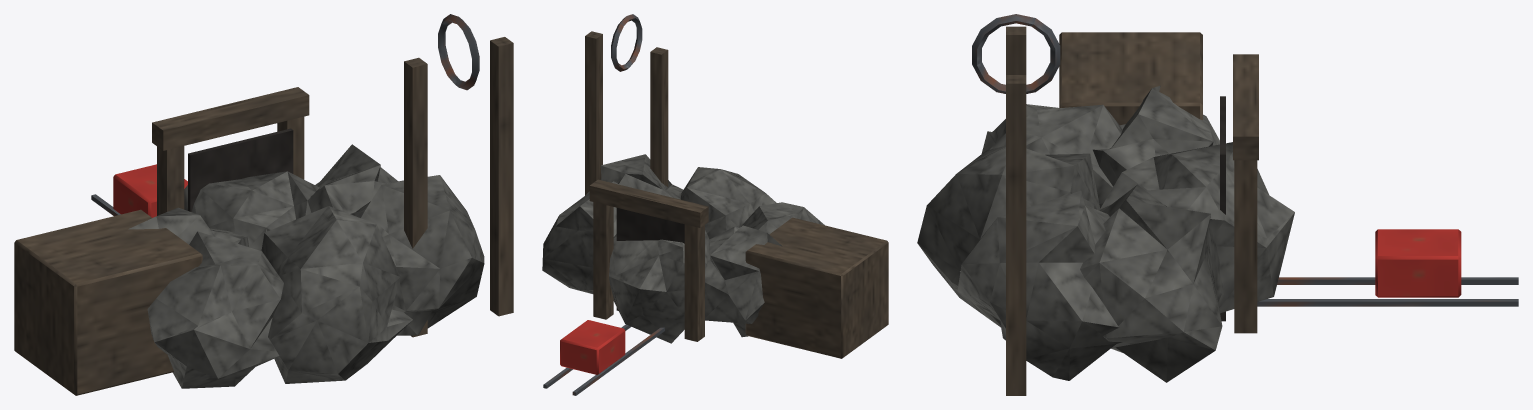
File: SM_POI_LargeMine.fbx
The picture shows the model from 3 angles, left to right: view 1: azimuth 30°, elevation 25°; view 2: azimuth 150°, elevation 25°; view 3: azimuth 270°, elevation 25°; orthographic projection. The views are drawn at different scales.
Parts seen in each view (by area): view 1: SM_POI_LargeMine; view 2: SM_POI_LargeMine; view 3: SM_POI_LargeMine.
Boxes of the visible parts, x1,y1,x2,y2 form: SM_POI_LargeMine: [14, 14, 513, 395]; SM_POI_LargeMine: [542, 14, 888, 395]; SM_POI_LargeMine: [917, 14, 1518, 395].
Bounding box in the file's own units: 19.35 × 14.81 × 20.95.
1 material, 1 textured.
